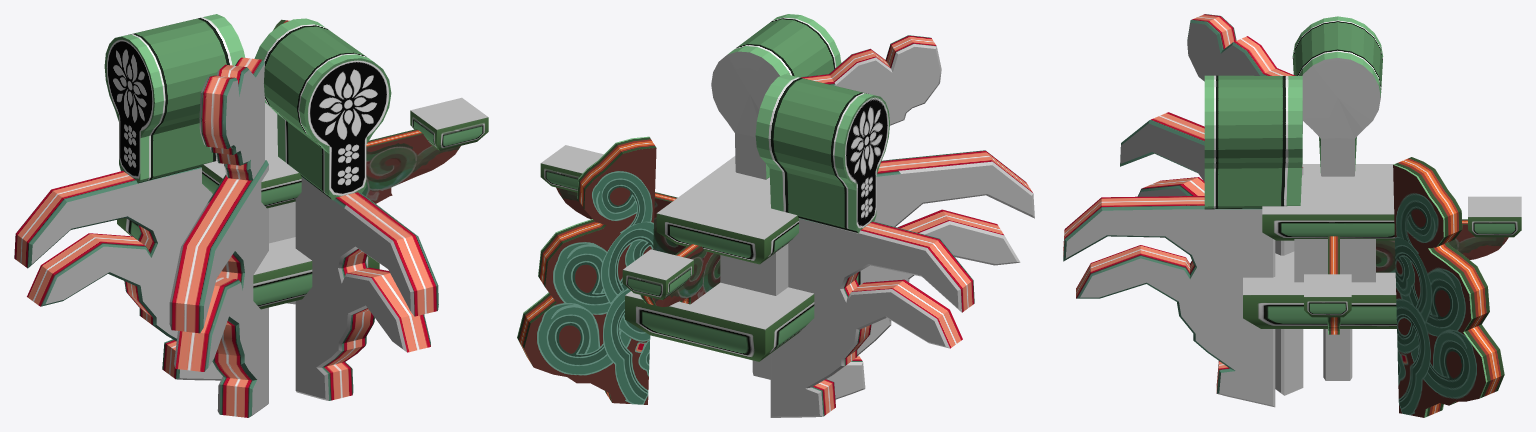
Rendered from SM_R_DancheongCorner_1.fbx.
The picture shows the model from 3 angles, left to right: view 1: azimuth 30°, elevation 25°; view 2: azimuth 150°, elevation 25°; view 3: azimuth 270°, elevation 25°; orthographic projection. The views are drawn at different scales.
Parts seen in each view (by area): view 1: SM_R_DancheongCorner_1_LOD0; view 2: SM_R_DancheongCorner_1_LOD0; view 3: SM_R_DancheongCorner_1_LOD0.
Boxes of the visible parts, x1,y1,x2,y2 form: SM_R_DancheongCorner_1_LOD0: (14,14,488,417); SM_R_DancheongCorner_1_LOD0: (517,14,1034,417); SM_R_DancheongCorner_1_LOD0: (1063,14,1521,417).
Size of the model in its own units: 168 by 166 by 135.
